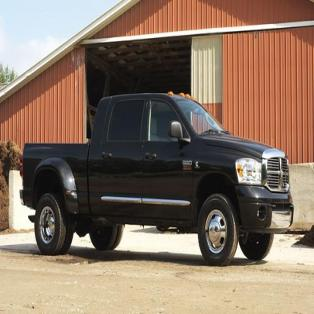Auto: (20, 92, 294, 265)
